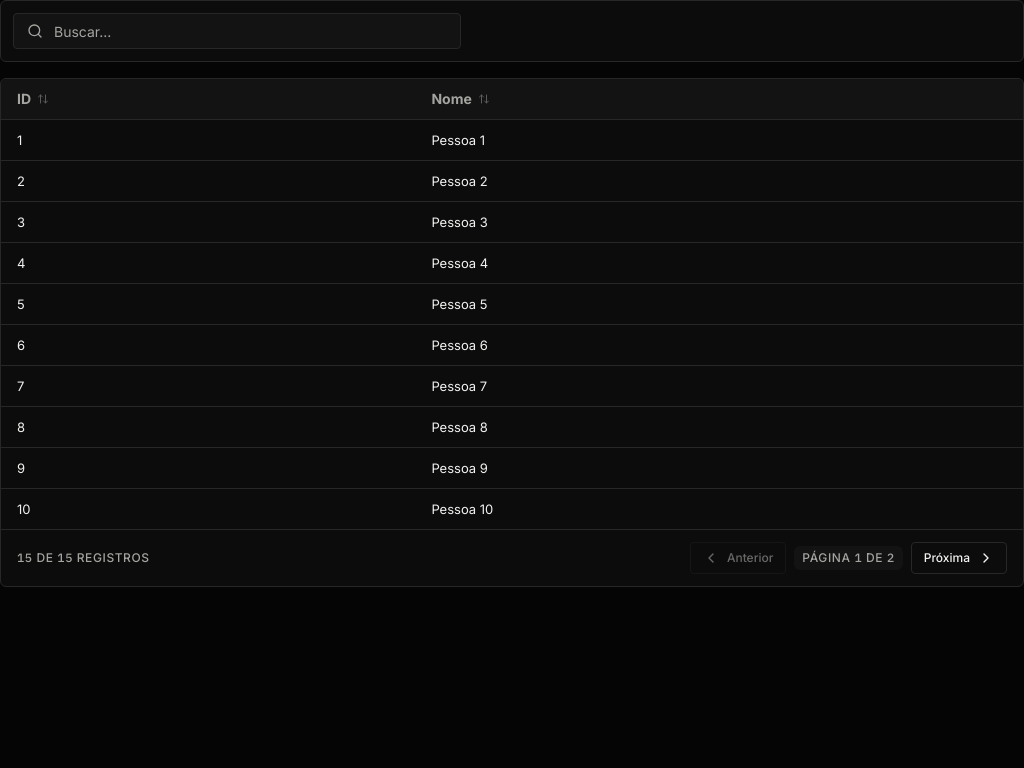
DataTable — paginação client-side (sem a prop pagination) › navegar para a próxima página troca as linhas exibidas
Click the button "Próxima": (959, 558) [911, 542, 1007, 574]
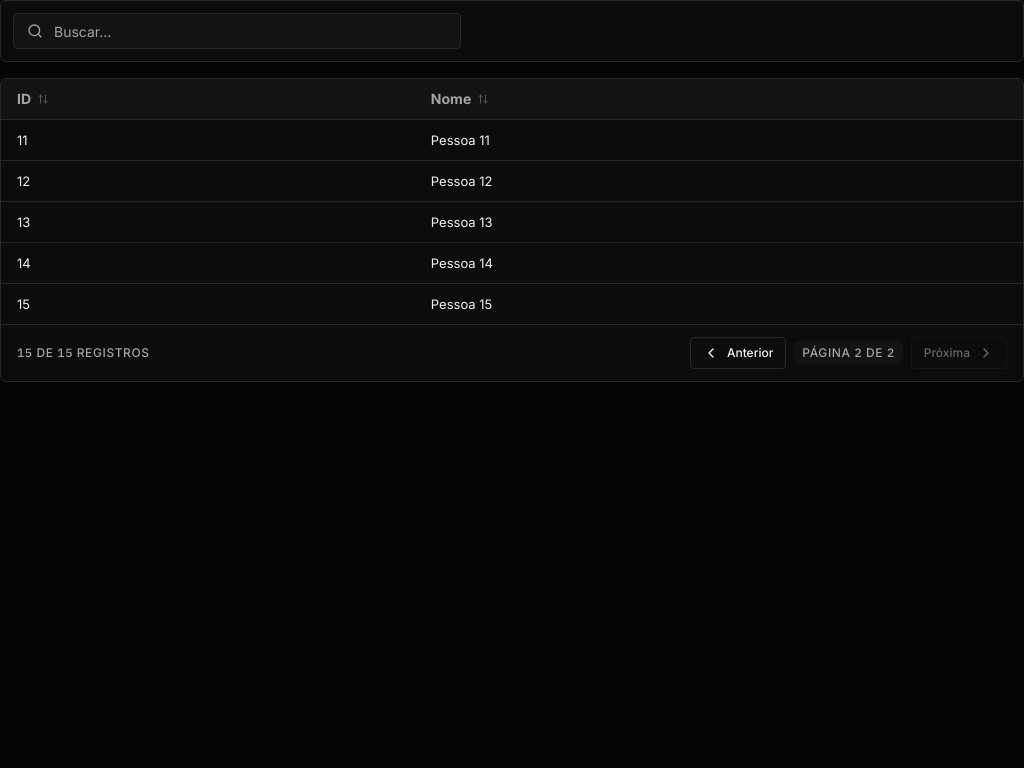
Result: the text "Pessoa 11" is shown at [415, 120, 1023, 160]
Result: the text "Pessoa 15" is shown at [415, 284, 1023, 324]
Result: the button "Próxima" is disabled at [911, 337, 1007, 369]
